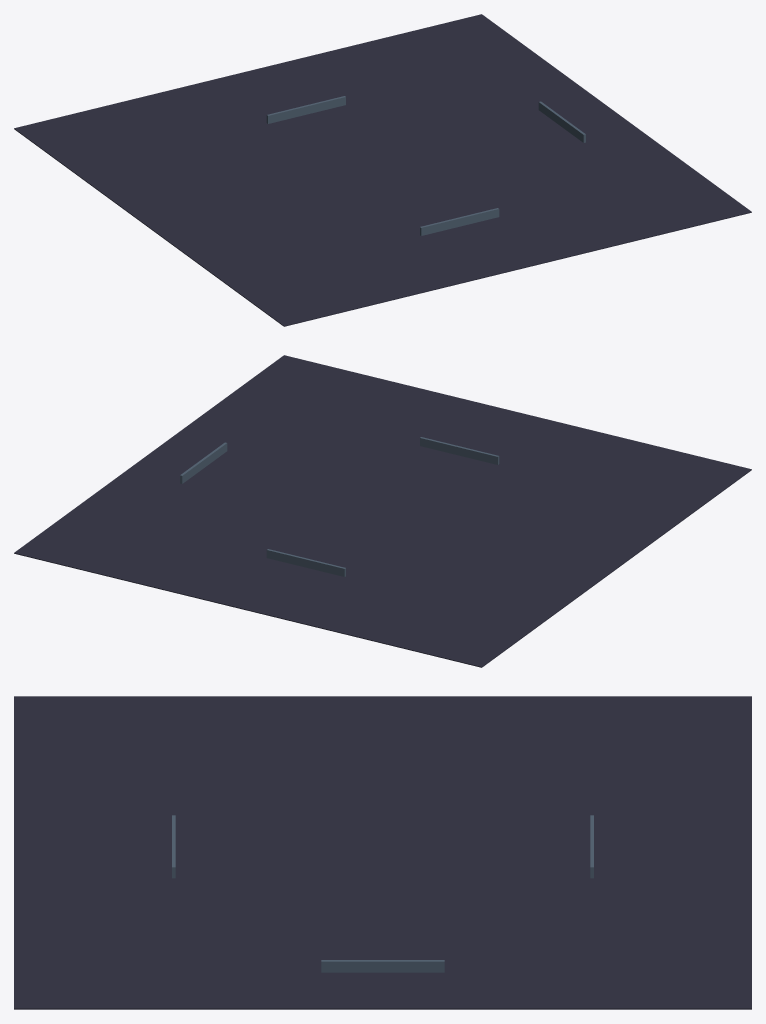
3 views of the same model, one above another, from view 1: azimuth 30°, elevation 25°; view 2: azimuth 150°, elevation 25°; view 3: azimuth 270°, elevation 25° (orthographic). The views are drawn at different scales.
Parts seen in each view (by area): view 1: ground, col_wall0, col_wall1, col_wall2; view 2: ground, col_wall0, col_wall1, col_wall2; view 3: ground, col_wall2.
Boxes of the visible parts, bbox=[...] form: ground: bbox=[14, 14, 751, 326]; col_wall0: bbox=[420, 208, 499, 235]; col_wall1: bbox=[266, 96, 345, 123]; col_wall2: bbox=[538, 101, 585, 142]; ground: bbox=[14, 355, 751, 667]; col_wall0: bbox=[420, 437, 499, 464]; col_wall1: bbox=[266, 549, 345, 576]; col_wall2: bbox=[180, 442, 227, 483]; ground: bbox=[14, 696, 751, 1009]; col_wall2: bbox=[321, 960, 444, 972].
Size of the model in its own units: 120 by 2.2 by 120.
